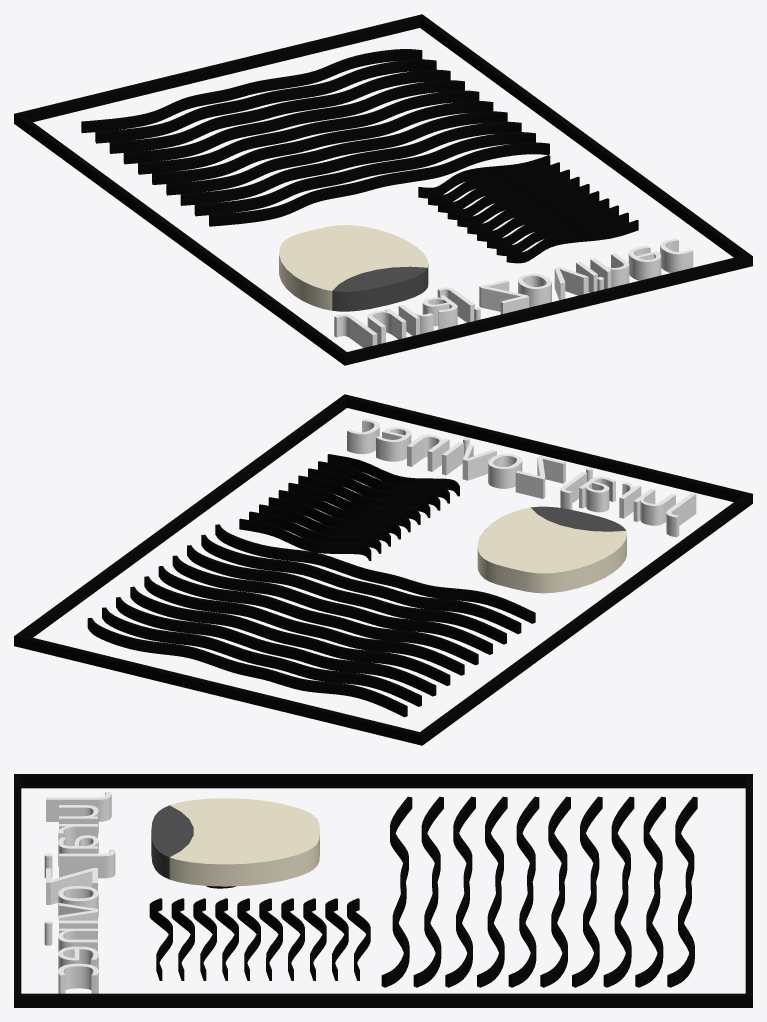
The model's file is Portfolio.gltf.
The picture shows the model from 3 angles, top to bottom: view 1: azimuth 30°, elevation 25°; view 2: azimuth 150°, elevation 25°; view 3: azimuth 270°, elevation 25°; orthographic projection. The views are drawn at different scales.
Parts seen in each view (by area): view 1: mesh40_meshnode_40, mesh174_meshnode_174, mesh35_meshnode_35, mesh43_meshnode_43, mesh169_meshnode_169, mesh50_meshnode_50, mesh328_meshnode_328, mesh132_meshnode_132, mesh163_meshnode_163, mesh34_meshnode_34, mesh334_meshnode_334, mesh80_meshnode_80 (+28 smaller); view 2: mesh40_meshnode_40, mesh174_meshnode_174, mesh37_meshnode_37, mesh41_meshnode_41, mesh36_meshnode_36, mesh44_meshnode_44, mesh49_meshnode_49, mesh22_meshnode_22, mesh16_meshnode_16, mesh33_meshnode_33, mesh168_meshnode_168, mesh79_meshnode_79 (+28 smaller); view 3: mesh40_meshnode_40, mesh38_meshnode_38, mesh42_meshnode_42, mesh174_meshnode_174, mesh171_meshnode_171, mesh24_meshnode_24, mesh127_meshnode_127, mesh18_meshnode_18, mesh164_meshnode_164, mesh75_meshnode_75, mesh158_meshnode_158, mesh29_meshnode_29 (+18 smaller).
Part boxes in pixels (<box>): mesh40_meshnode_40: <box>14,14,752,355</box>; mesh174_meshnode_174: <box>279,225,428,290</box>; mesh35_meshnode_35: <box>344,256,752,365</box>; mesh43_meshnode_43: <box>23,18,419,121</box>; mesh169_meshnode_169: <box>209,144,548,226</box>; mesh50_meshnode_50: <box>138,92,477,174</box>; mesh328_meshnode_328: <box>96,61,435,143</box>; mesh132_meshnode_132: <box>110,71,449,153</box>; mesh163_meshnode_163: <box>124,82,463,164</box>; mesh34_meshnode_34: <box>167,113,506,195</box>; mesh334_meshnode_334: <box>181,123,520,205</box>; mesh80_meshnode_80: <box>195,134,534,216</box>; mesh40_meshnode_40: <box>14,394,752,735</box>; mesh174_meshnode_174: <box>477,507,626,573</box>; mesh37_meshnode_37: <box>14,636,422,745</box>; mesh41_meshnode_41: <box>347,398,743,501</box>; mesh36_meshnode_36: <box>422,494,752,745</box>; mesh44_meshnode_44: <box>23,398,346,637</box>; mesh49_meshnode_49: <box>144,577,461,675</box>; mesh22_meshnode_22: <box>158,567,475,664</box>; mesh16_meshnode_16: <box>87,618,404,717</box>; mesh33_meshnode_33: <box>172,556,489,654</box>; mesh168_meshnode_168: <box>215,525,532,623</box>; mesh79_meshnode_79: <box>201,536,517,633</box>; mesh40_meshnode_40: <box>14,774,752,996</box>; mesh38_meshnode_38: <box>14,996,752,1007</box>; mesh42_meshnode_42: <box>21,777,745,788</box>; mesh174_meshnode_174: <box>170,798,319,864</box>; mesh171_meshnode_171: <box>169,834,319,886</box>; mesh24_meshnode_24: <box>151,805,193,857</box>; mesh127_meshnode_127: <box>604,796,633,976</box>; mesh18_meshnode_18: <box>509,796,538,976</box>; mesh164_meshnode_164: <box>382,796,411,976</box>; mesh75_meshnode_75: <box>414,796,443,976</box>; mesh158_meshnode_158: <box>572,796,602,976</box>; mesh29_meshnode_29: <box>477,796,506,976</box>.
Size of the model in its own units: 0.216 by 0.013 by 0.303.
